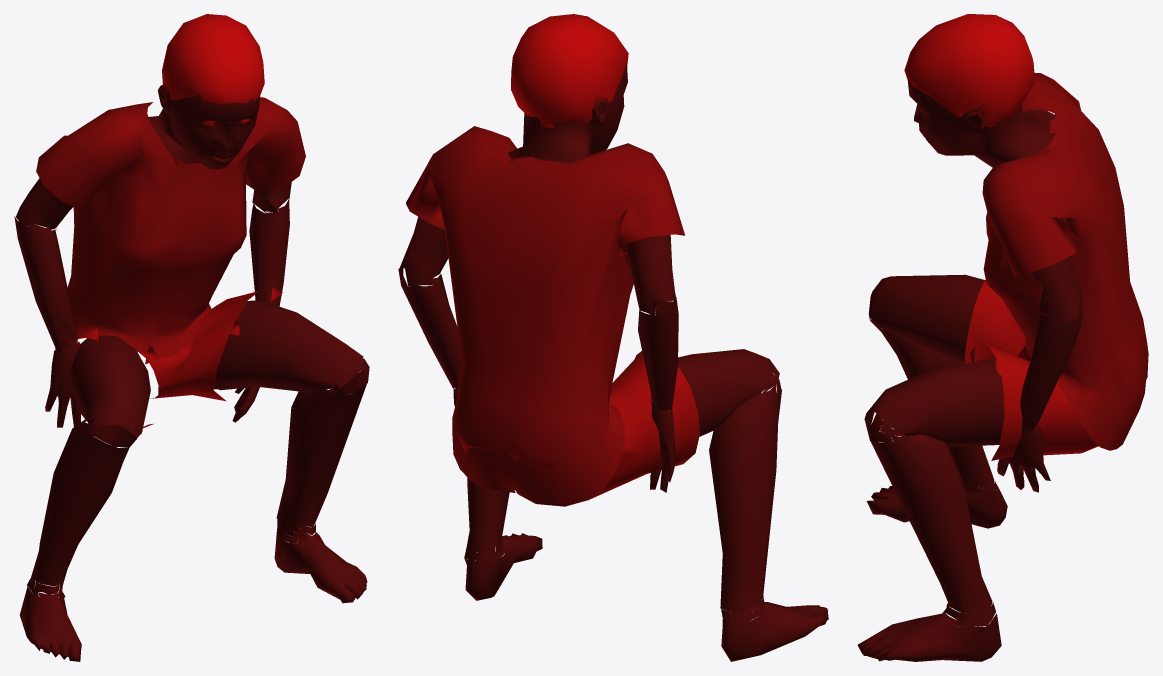
The model's file is crowd_kidSit.glb.
The picture shows the model from 3 angles, left to right: view 1: azimuth 30°, elevation 25°; view 2: azimuth 150°, elevation 25°; view 3: azimuth 270°, elevation 25°; orthographic projection. The views are drawn at different scales.
Visible parts, largest first — view 1: kidSit; view 2: kidSit; view 3: kidSit.
Part boxes in pixels (<box>): kidSit: <box>14,14,369,661</box>; kidSit: <box>398,14,828,661</box>; kidSit: <box>857,14,1148,661</box>.
Bounding box in the file's own units: 0.5951 × 0.9734 × 0.4294.
